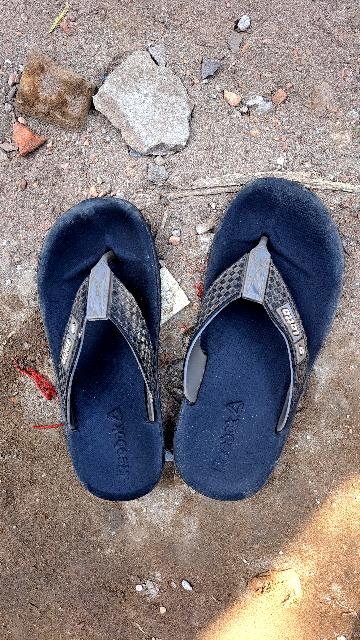sandal: (158, 182, 360, 510), (30, 189, 171, 504)
